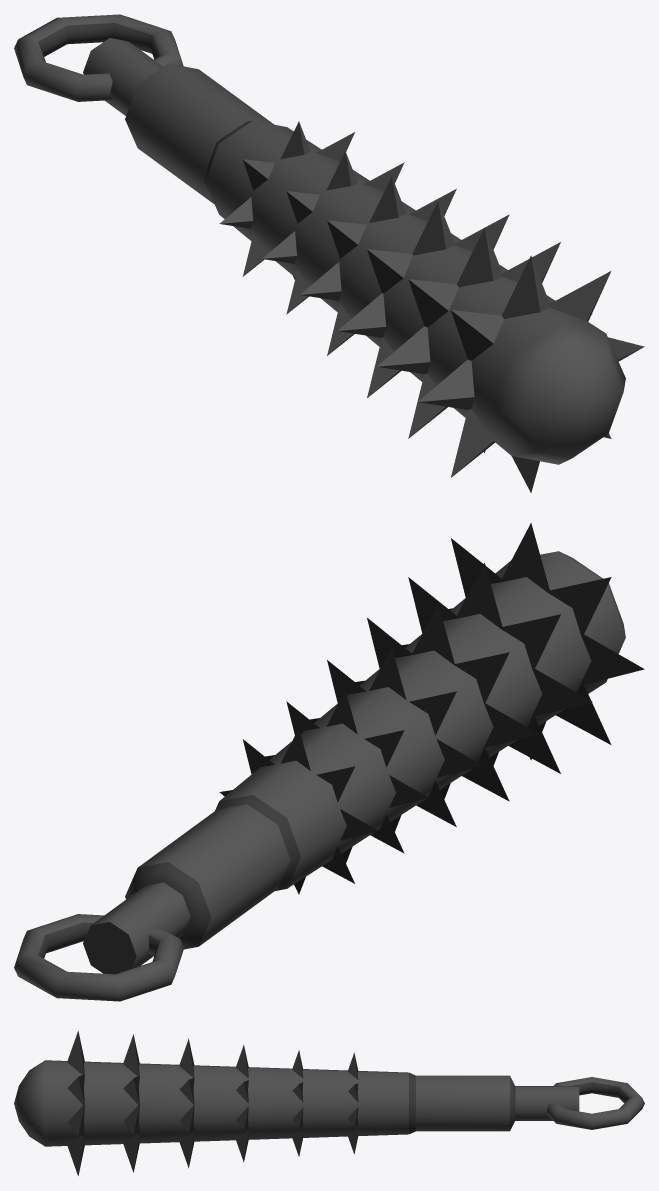
Rendered from kanabou.fbx.
3 views of the same model, one above another, from view 1: azimuth 30°, elevation 25°; view 2: azimuth 150°, elevation 25°; view 3: azimuth 270°, elevation 25° (orthographic). The views are drawn at different scales.
Visible parts, largest first — view 1: kanabou; view 2: kanabou; view 3: kanabou.
Part boxes in pixels (x1,y1,x2,y2): kanabou: (14, 14, 644, 492); kanabou: (14, 523, 644, 1001); kanabou: (14, 1031, 644, 1175).
Bounding box in the file's own units: 0.669 × 0.669 × 2.7.
Materials: 1 (1 with a texture image).
